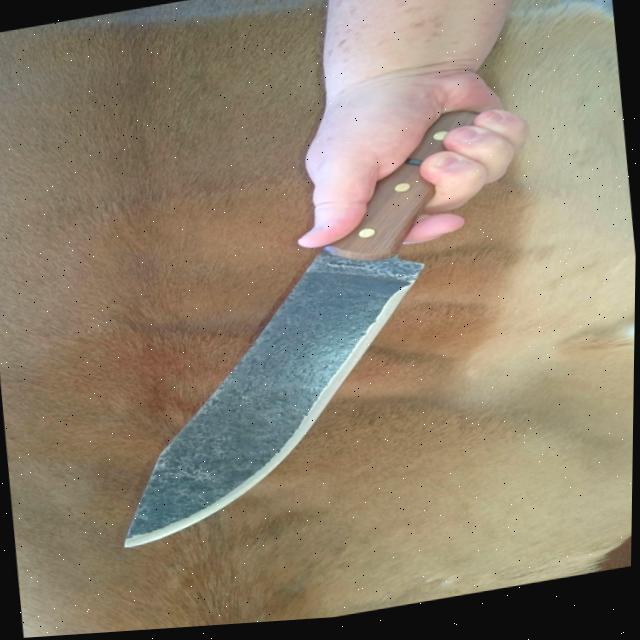knife: (92, 233, 454, 555)
